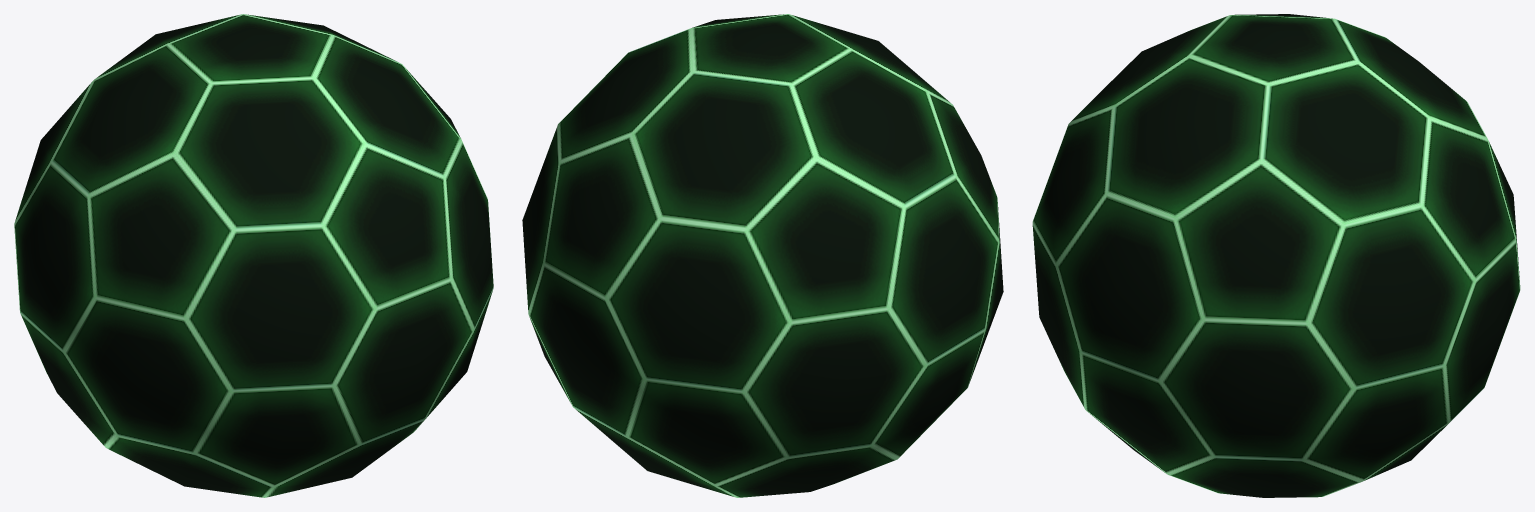
3 views of the same model, side by side, from view 1: azimuth 30°, elevation 25°; view 2: azimuth 150°, elevation 25°; view 3: azimuth 270°, elevation 25° (orthographic).
Parts seen in each view (by area): view 1: shield_G; view 2: shield_G; view 3: shield_G.
Part boxes in pixels (x1=…): shield_G: x1=14, y1=14, x2=493, y2=497; shield_G: x1=522, y1=14, x2=1003, y2=497; shield_G: x1=1032, y1=14, x2=1520, y2=497.
Size of the model in its own units: 2.3 by 2.34 by 2.31.
Materials: 1 (1 with a texture image).
